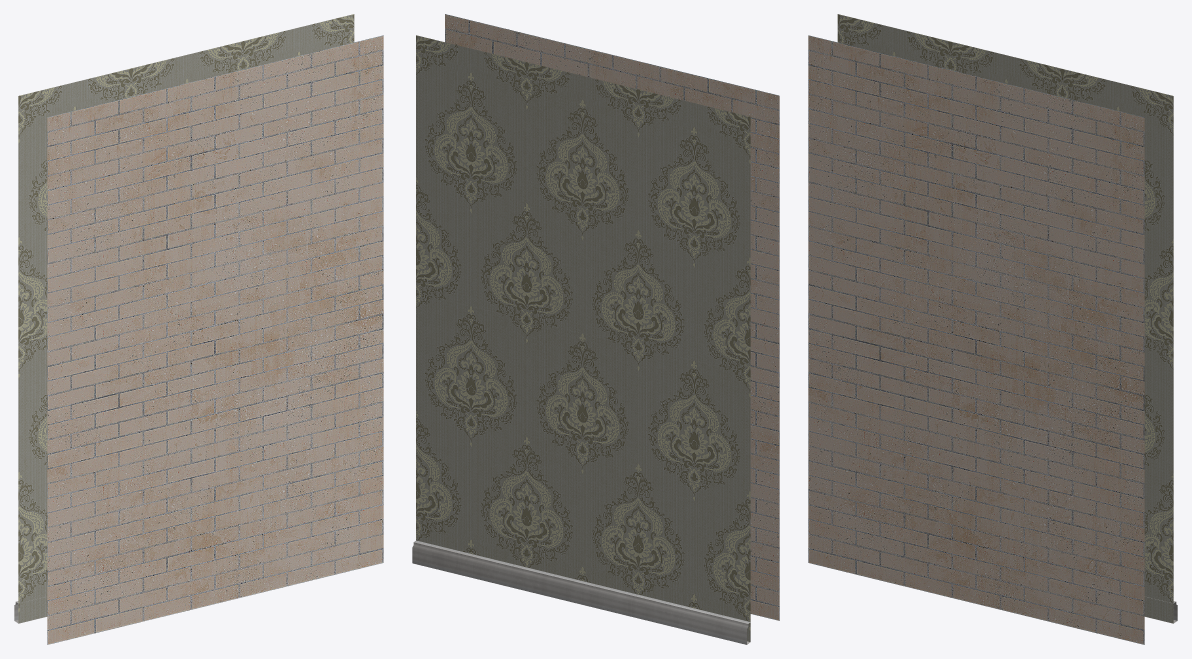
The model's file is House_06_Wall_02.fbx.
The picture shows the model from 3 angles, left to right: view 1: azimuth 30°, elevation 25°; view 2: azimuth 150°, elevation 25°; view 3: azimuth 330°, elevation 25°; orthographic projection.
Parts seen in each view (by area): view 1: House_06_Wall_02; view 2: House_06_Wall_02; view 3: House_06_Wall_02.
Boxes of the visible parts, left/top/right/bottom form: House_06_Wall_02: left=14, top=14, right=383, bottom=644; House_06_Wall_02: left=412, top=14, right=779, bottom=644; House_06_Wall_02: left=808, top=14, right=1177, bottom=644.
Size of the model in its own units: 200 by 300 by 33.93.
